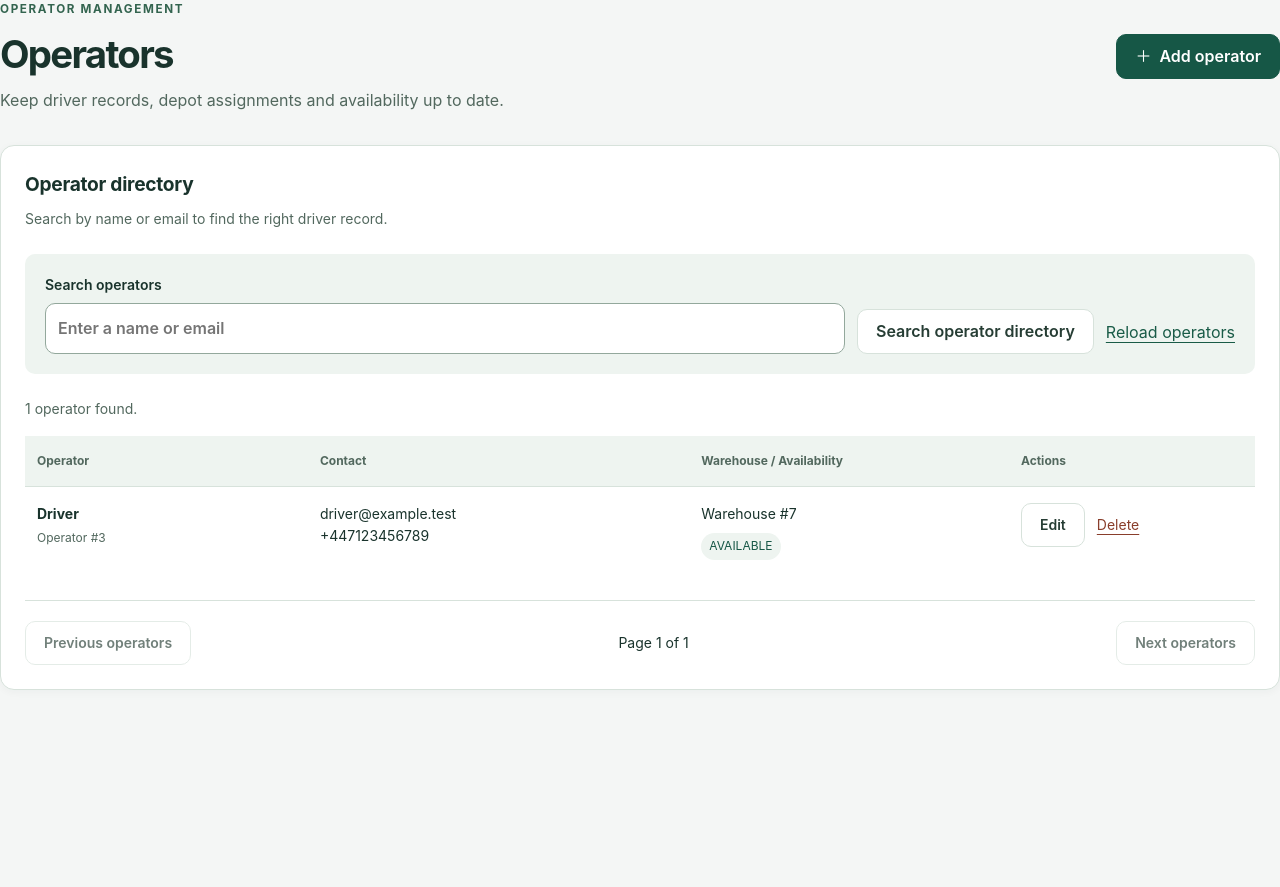
Scenario: operator setup workflow › requires capacity and warehouse selection without defaulting missing input
The image size is (1280, 887).
Expected: the button with aria-label "Edit operator #3" is shown, top-left (1021, 503), bottom-right (1085, 547)
Click the button "＋ Add operator" at (1198, 56), box top-left (1116, 34), bottom-right (1279, 79)
(page scrolled)
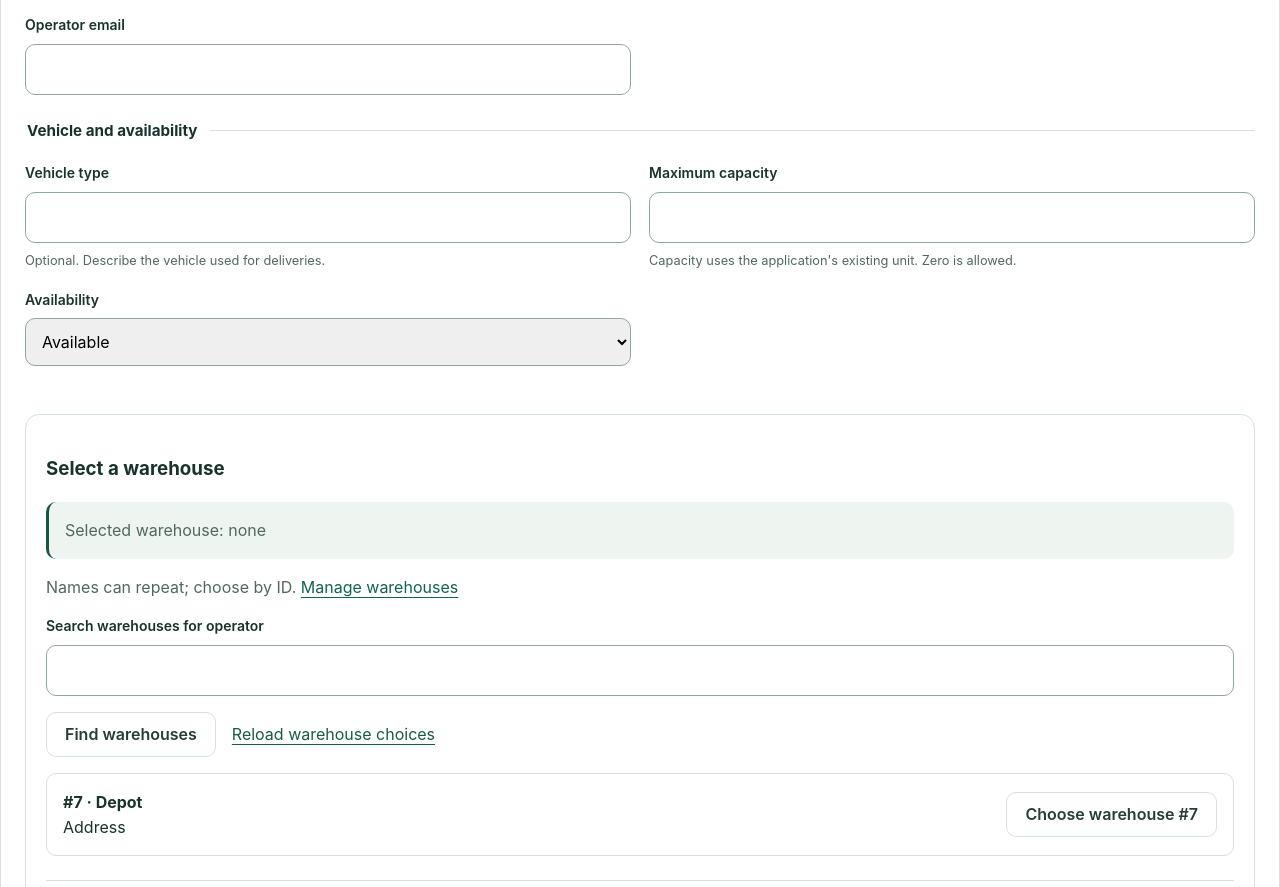
Submit the form named "Save operator"
(page scrolled)
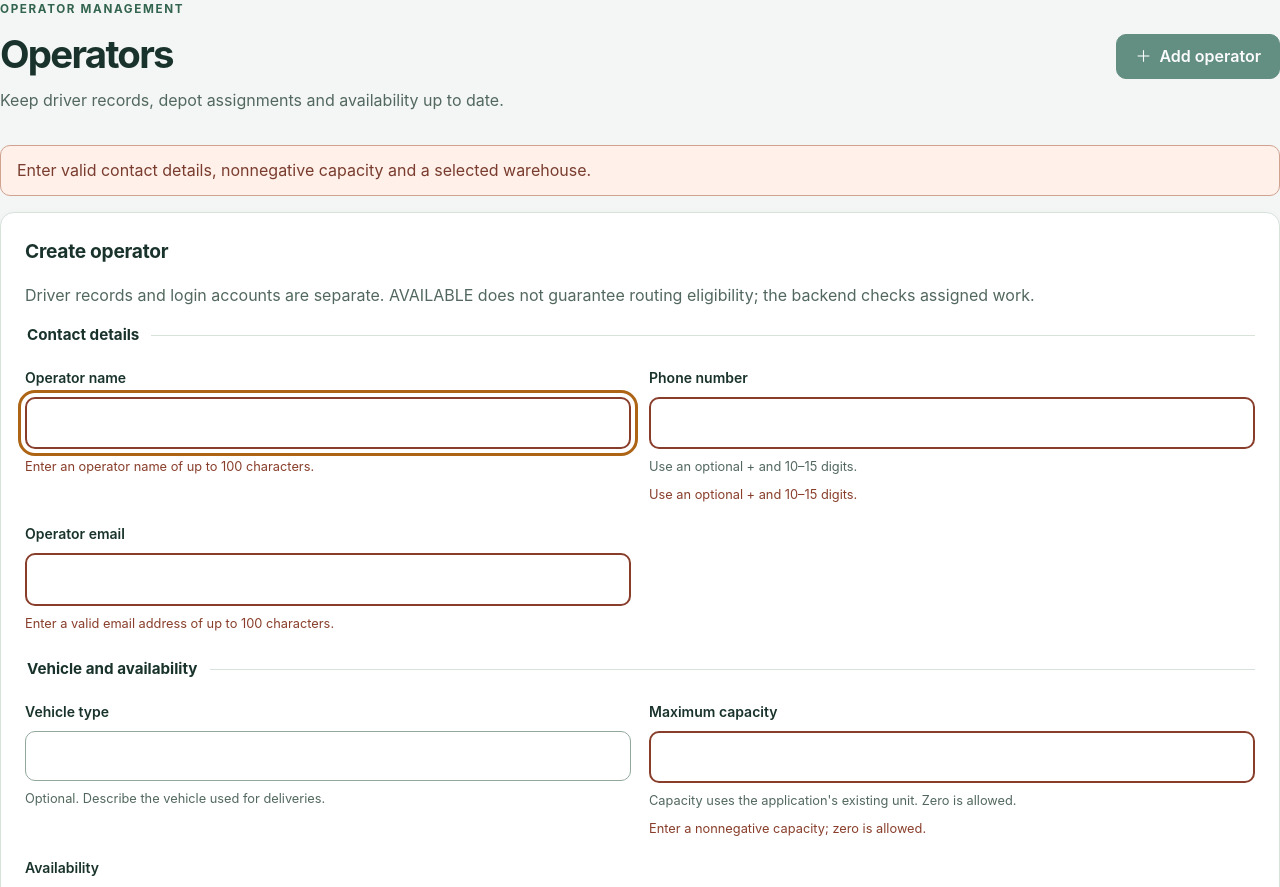
Expected: the message "Enter valid contact details, nonnegative capacity and a selected warehouse." is shown, top-left (0, 145), bottom-right (1279, 196)
